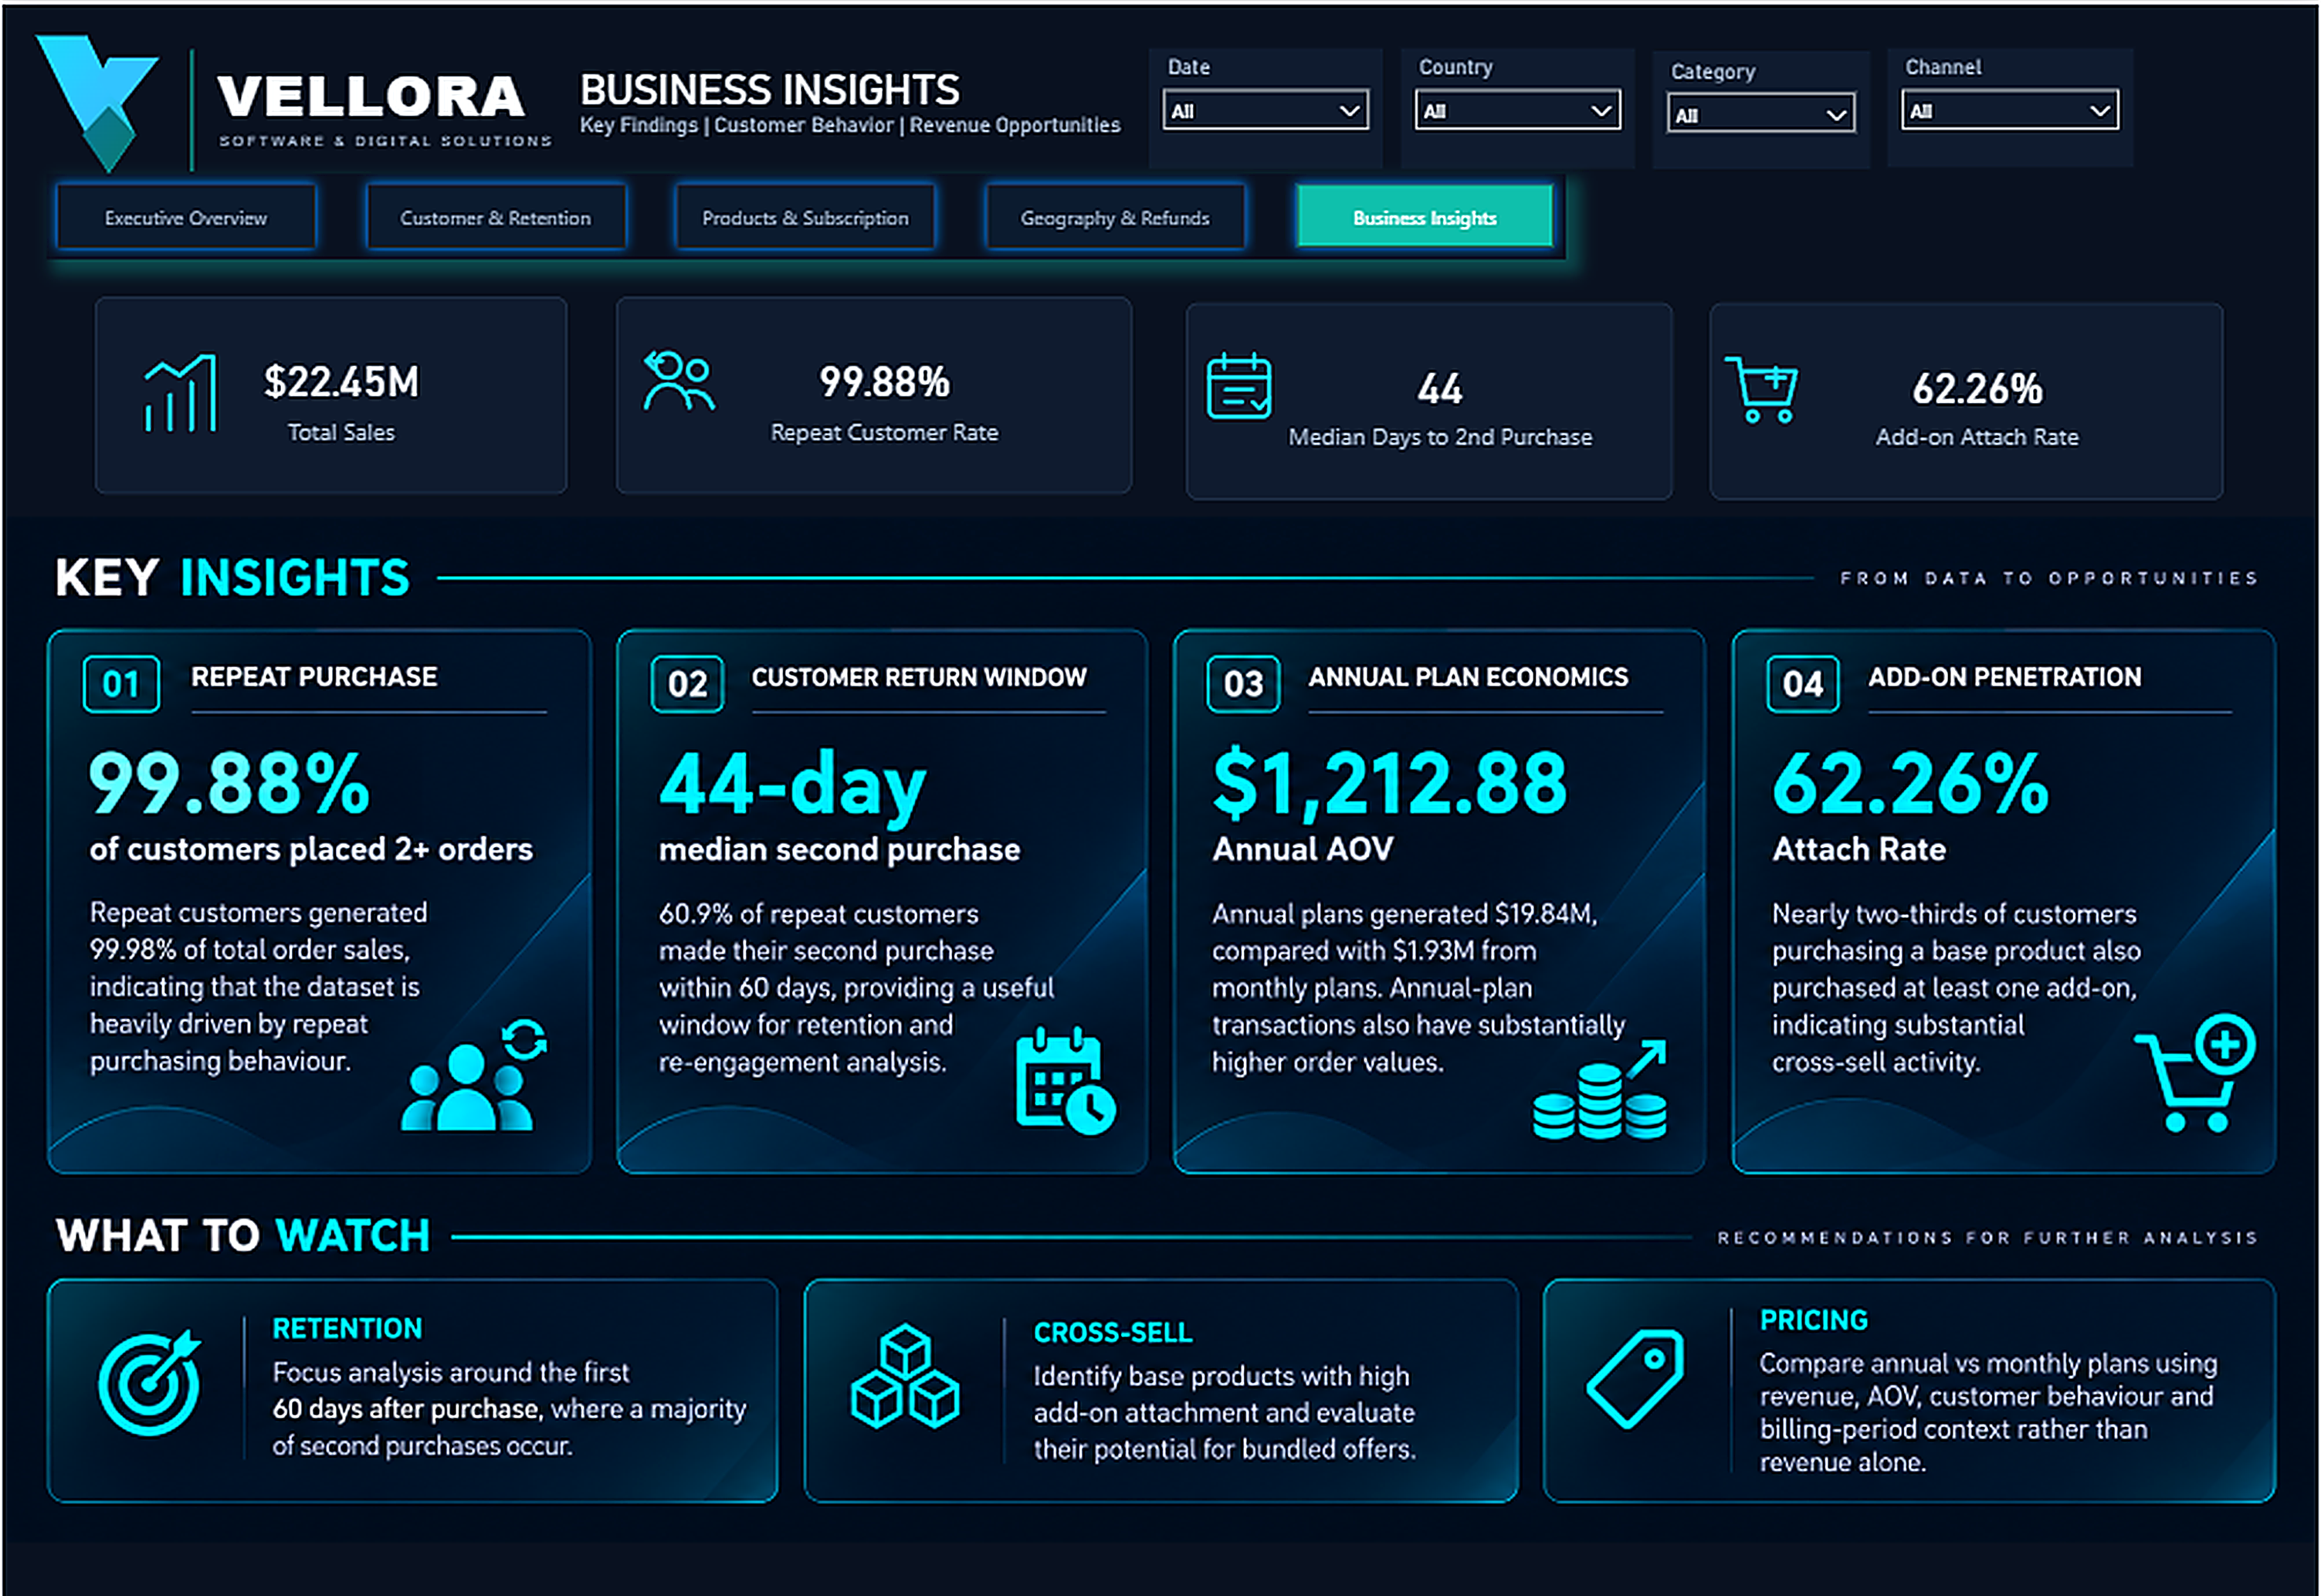

What the dashboard file says about the page in this screenshot:
{"tool":"powerbi","page":{"name":"Business Insights","canvas":[1600,1100],"ordinal":4},"visuals":[{"type":"card","fields":{"Values":["_Measures.Repeat Customer Rate"]},"box":[423.5,201.6,356,136],"z":0},{"type":"card","fields":{"Values":["_Measures.Total Sales"]},"box":[64.8,201.6,326,136],"z":1000},{"type":"card","fields":{"Values":["_Measures.Add-on Attach Rate"]},"box":[1180.8,205.6,354,136],"z":2000},{"type":"slicer","fields":{"Values":["Dim_Date.Date"]},"box":[792,30,161.7,83.3],"z":6000},{"type":"slicer","fields":{"Values":["Events_updated.country"]},"box":[965.9,30,161.7,83.3],"z":7000},{"type":"slicer","title":"Channel","fields":{"Values":["Events_updated.channel"]},"box":[1302,30,170,82.5],"z":8000},{"type":"slicer","fields":{"Values":["Products_final__3.category"]},"box":[1139.8,32,150,81.7],"z":9000},{"type":"image","box":[0,0,468.3,146.7],"z":10000},{"type":"textbox","box":[393.1,35.4,385.4,84.6],"z":11000},{"type":"card","fields":{"Values":["_Measures.Median Days to 2nd Purchase"]},"box":[818,206,336,136],"z":14000},{"type":"image","box":[68,238,112,68],"z":15000},{"type":"image","box":[412,226,112,68],"z":16000},{"type":"image","box":[1158,230,112,68],"z":17000},{"type":"image","box":[818,234,72,60],"z":17001},{"type":"image","box":[0,354,1600,708],"z":17004},{"type":"pageNavigator","box":[30,116.7,1050,60],"z":17005}]}

Visuals, with their boxes in screenshot pixels (x1, y1, x2, y2), scaled from the page's 1600x1100 canvas onto the 2321x1596 screenshot:
card - _Measures.Repeat Customer Rate: [615,293,1130,490]
card - _Measures.Total Sales: [94,293,567,490]
card - _Measures.Add-on Attach Rate: [1713,298,2227,496]
slicer - Dim_Date.Date: [1149,43,1384,164]
slicer - Events_updated.country: [1401,43,1635,164]
"Channel" slicer: [1889,43,2136,163]
slicer - Products_final__3.category: [1653,46,1871,165]
image: [0,0,679,213]
textbox: [571,52,1130,174]
card - _Measures.Median Days to 2nd Purchase: [1187,299,1674,496]
image: [99,345,261,444]
image: [598,328,760,426]
image: [1680,334,1842,432]
image: [1187,340,1291,426]
image: [0,513,2320,1541]
pageNavigator: [43,169,1567,256]
